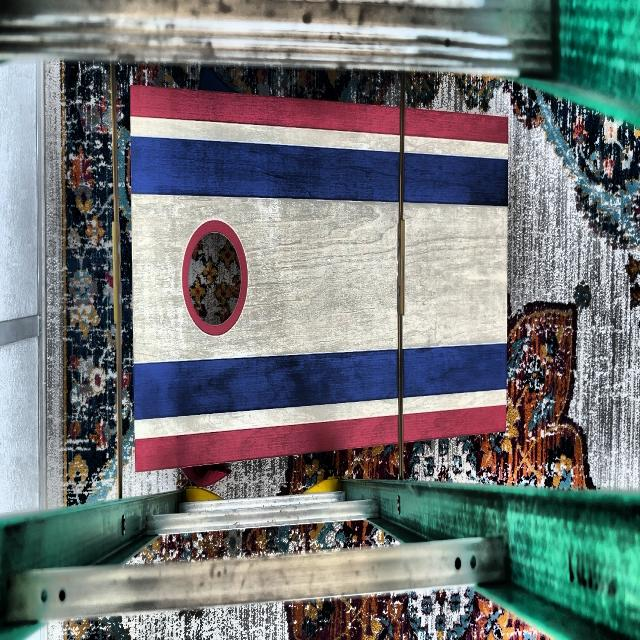blue-bean-bag: (196, 68, 239, 92)
board: (134, 116, 505, 430)
hole: (182, 219, 248, 336)
red-bean-bag: (182, 466, 230, 486)
